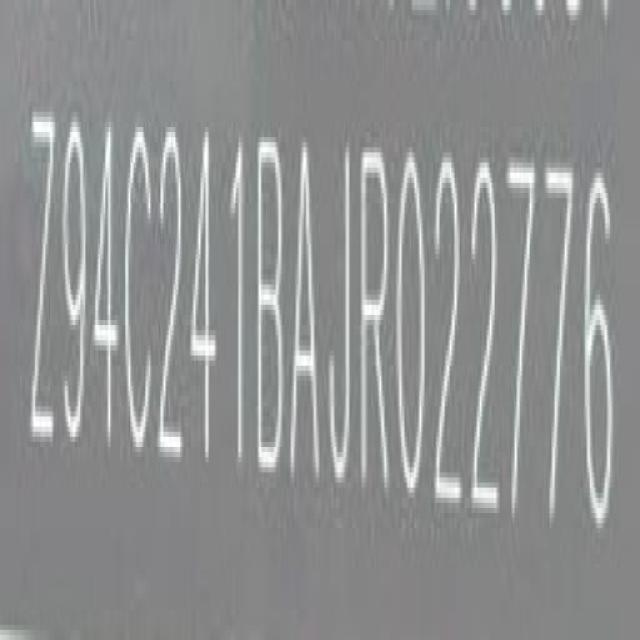0: (395, 150, 429, 511)
1: (227, 126, 249, 484)
2: (468, 156, 500, 528), (433, 143, 464, 519), (158, 115, 188, 473)
4: (191, 123, 222, 480), (94, 112, 122, 460)
6: (585, 166, 619, 535)
7: (507, 151, 541, 533), (544, 154, 577, 537)
9: (60, 115, 87, 461)
A: (291, 134, 323, 489)
B: (256, 129, 288, 482)
C: (126, 120, 158, 468)
J: (326, 138, 356, 490)
R: (360, 143, 393, 498)
Z: (27, 104, 58, 464)
